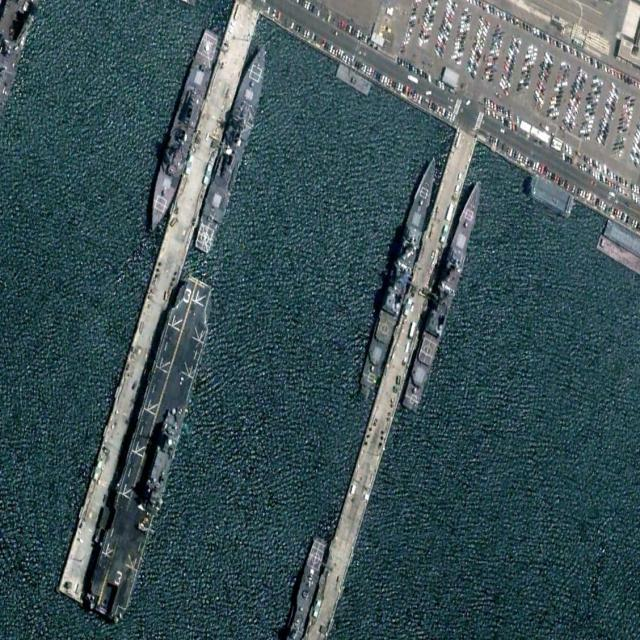Cruiser: (357, 149, 445, 393), (401, 172, 487, 414)
Destroyer: (192, 34, 273, 256), (142, 24, 222, 237)
Landing: (82, 268, 221, 627)
